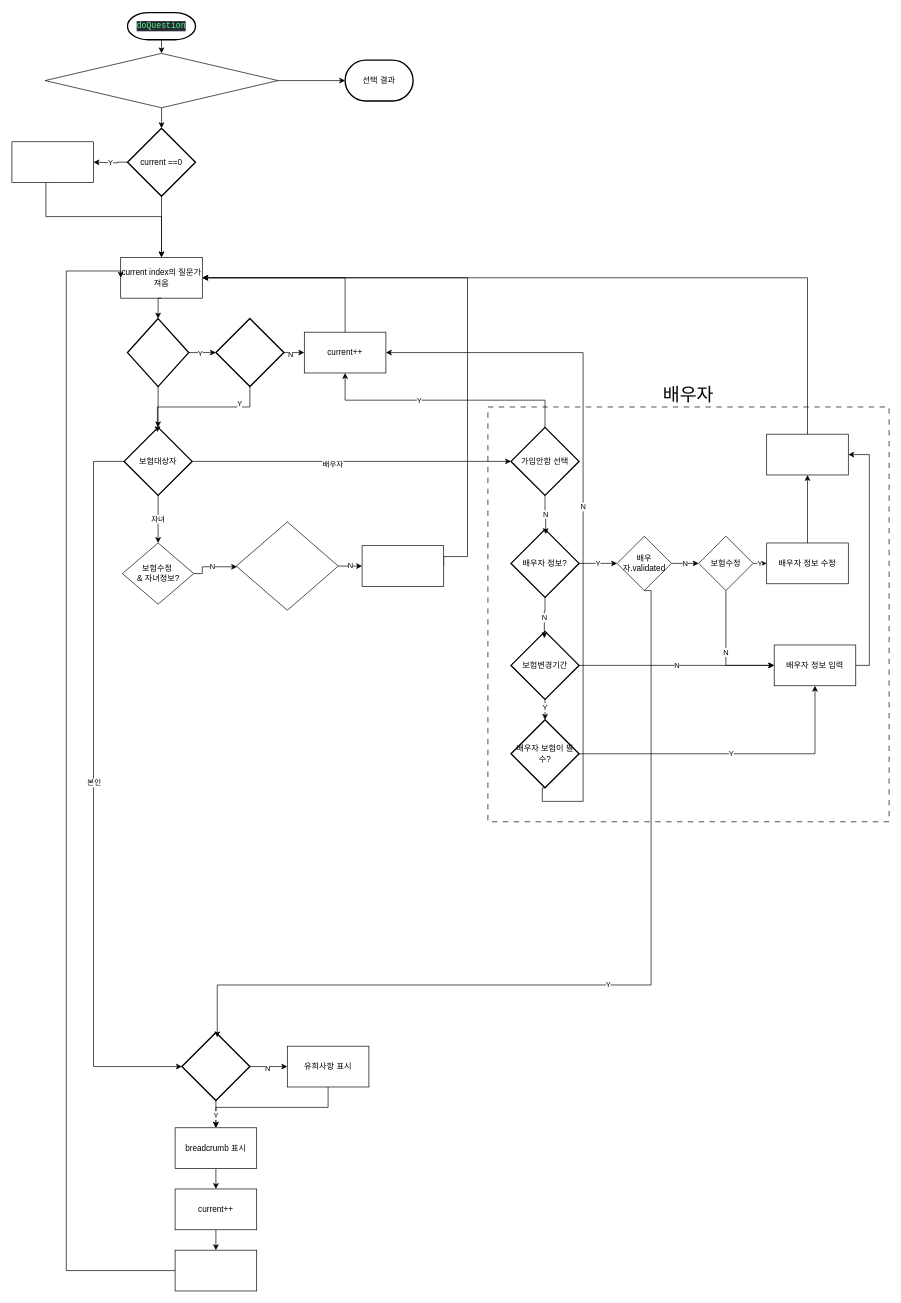
Image size: 901x1303. Some labels were removed from this diagram. The shapes that lost their labels are listed below. From the top down, each one's centre as x and y in pixels, then its label:
At point 161,80: "this . current >= this . questions . length".
At point 52,162: "breadcrumb 세팅".
At point 157,352: "보험 변경 기간?".
At point 249,352: "의료비 보장 관련 보험?".
At point 807,454: "배우자.validated = true".
At point 287,565: "자녀보험선택완료 or 현재자녀 주민번호".
At point 402,565: "자녀정보입력".
At point 215,1066: "유의사항 봤나?".
At point 215,1270: "질문표시".
